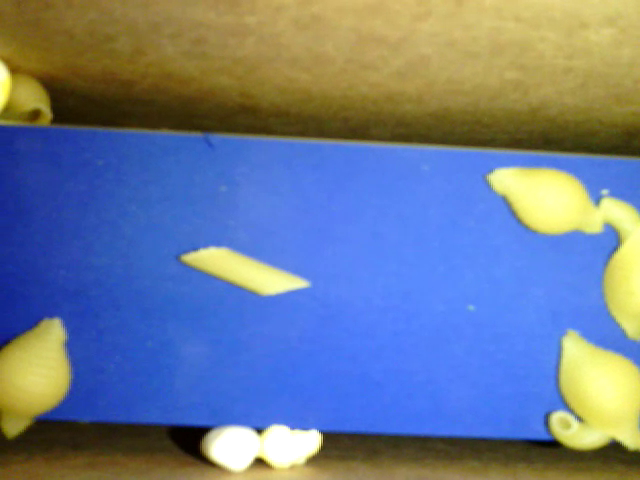elbow: (545, 410, 621, 450), (593, 194, 639, 250)
penne: (177, 244, 315, 303)
shell: (559, 327, 638, 450), (1, 309, 69, 446), (488, 166, 605, 238), (603, 227, 639, 345), (3, 69, 59, 131)
